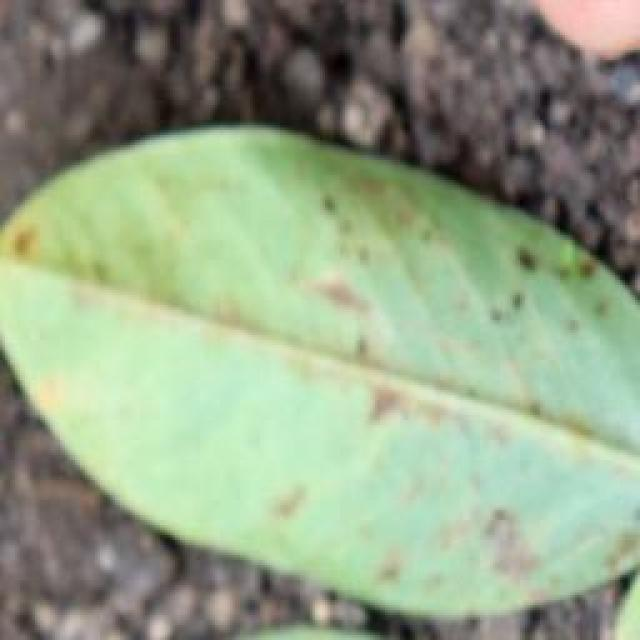Whitefly: (31, 190, 640, 636)
